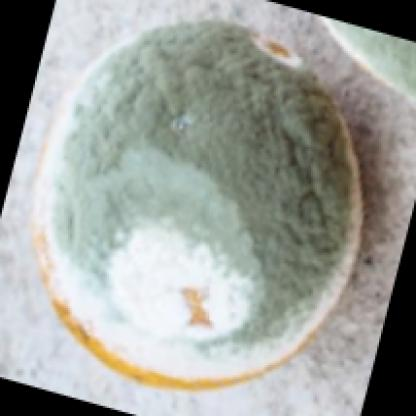rotten: (33, 20, 363, 386)
